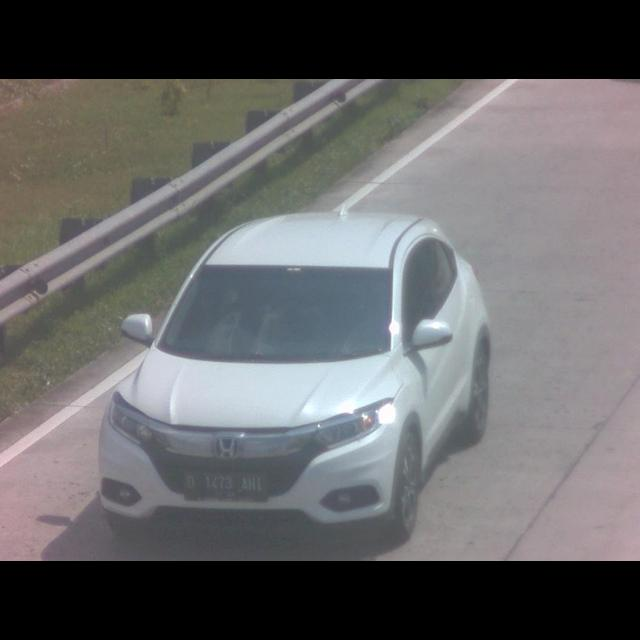plate: (180, 471, 266, 504)
